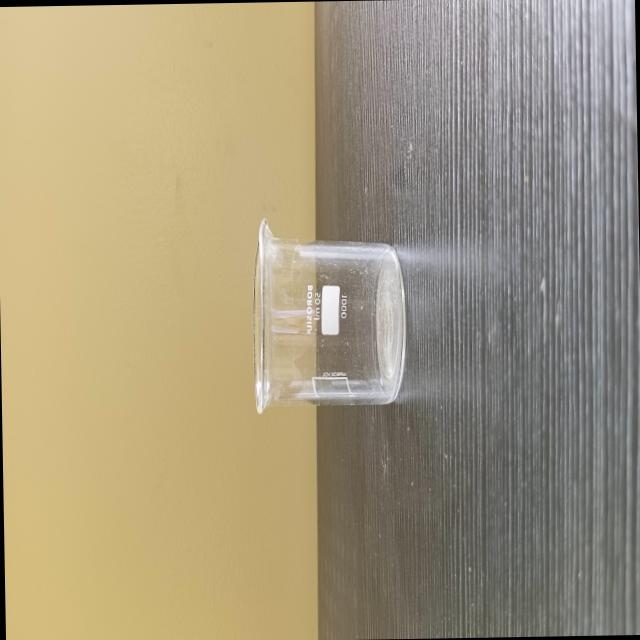beaker: (247, 210, 411, 416)
